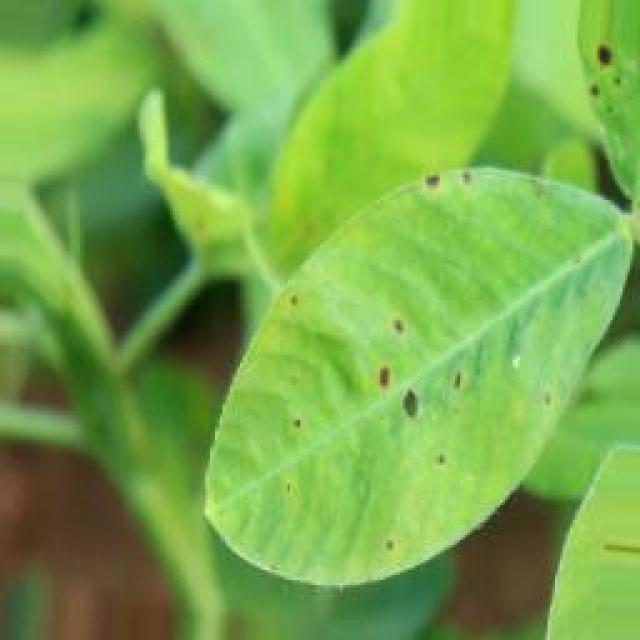Sigatoka: (348, 321, 492, 456), (354, 143, 512, 220), (358, 516, 430, 574), (587, 24, 630, 121), (399, 432, 469, 480), (523, 385, 581, 441), (254, 261, 305, 321), (272, 401, 312, 445)
